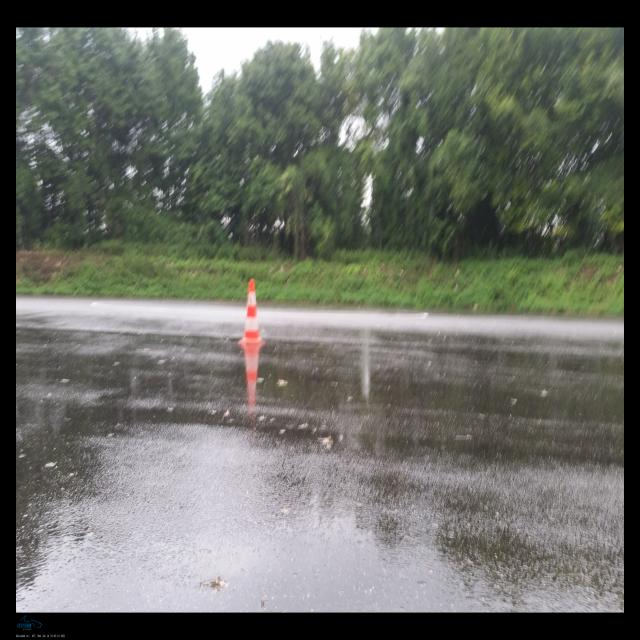large_orange_cone: (237, 279, 266, 346)
